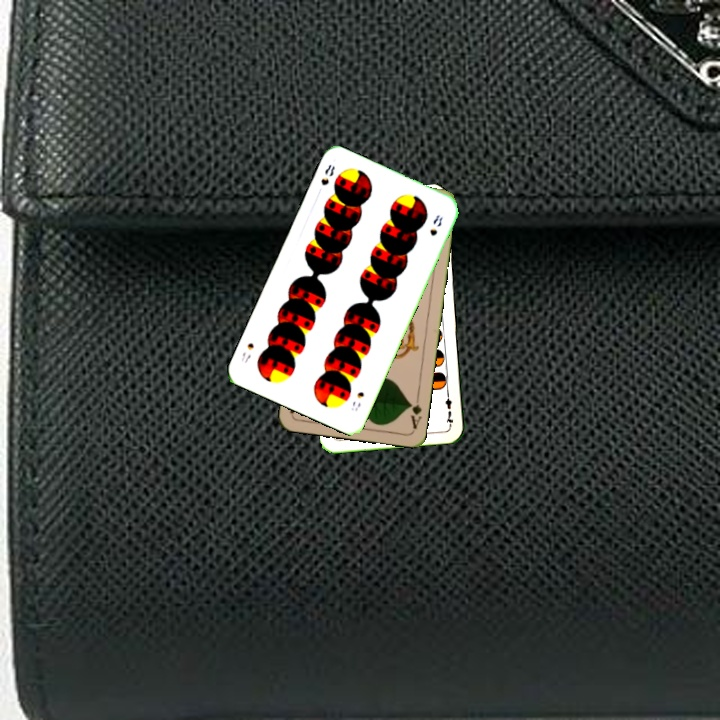E7: (441, 387, 456, 427)
GA: (405, 391, 424, 431)
S8: (317, 160, 338, 188), (347, 388, 367, 413)
